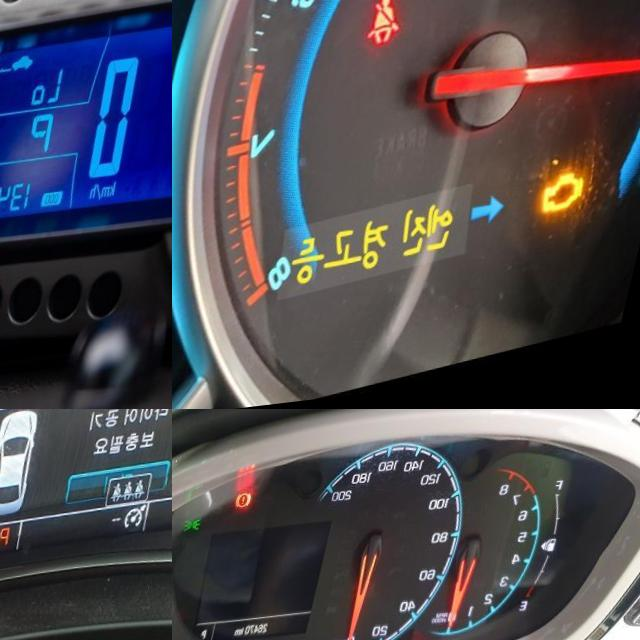SideLamp: (198, 520, 216, 535)
